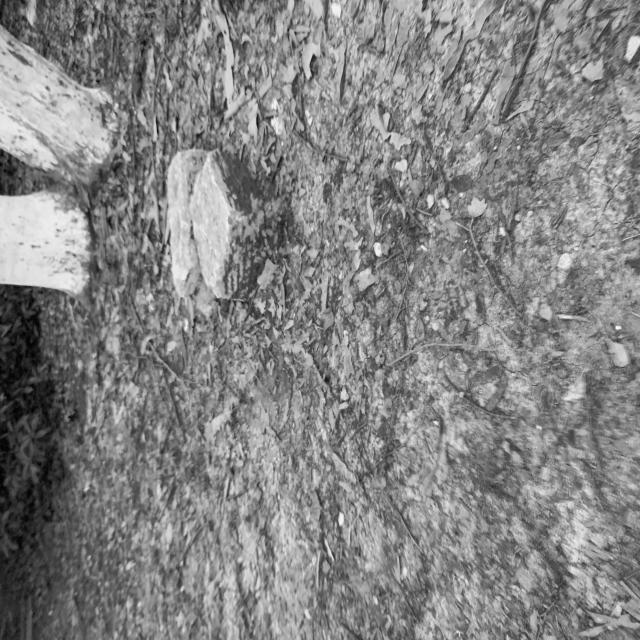Stone: (168, 149, 252, 314)
